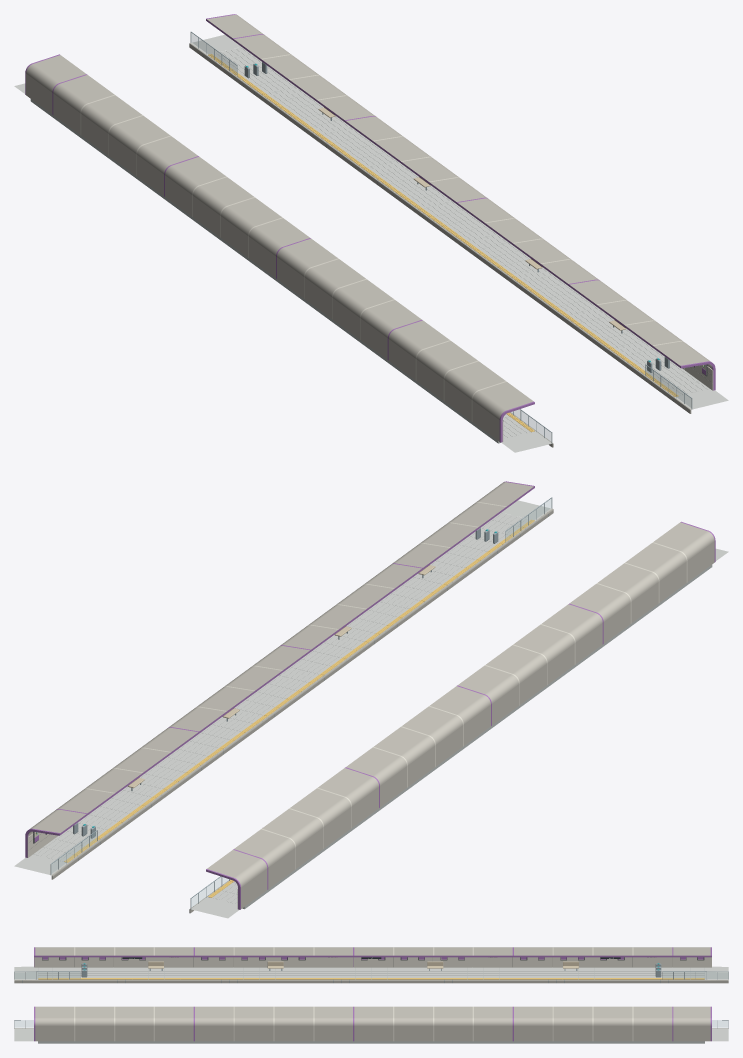
Rendered from station-A4.glb.
The picture shows the model from 3 angles, top to bottom: view 1: azimuth 30°, elevation 25°; view 2: azimuth 150°, elevation 25°; view 3: azimuth 270°, elevation 25°; orthographic projection. The views are drawn at different scales.
Parts seen in each view (by area): view 1: A4_platform_-1_roof, A4_platform_1_tile, A4_platform_1_roof, A4_platform_1_station_kerb, A4_platform_1_yellow, A4_platform_-1_concrete, A4_platform_-1_cladding, A4_platform_-1_tile, A4_platform_1_cladding, A4_platform_-1_accent; view 2: A4_platform_-1_roof, A4_platform_1_tile, A4_platform_1_roof, A4_platform_1_station_kerb, A4_platform_1_yellow, A4_platform_-1_concrete, A4_platform_-1_cladding, A4_platform_-1_tile, A4_platform_1_cladding, A4_platform_-1_accent; view 3: A4_platform_1_roof, A4_platform_-1_tile, A4_platform_-1_roof, A4_platform_-1_cladding, A4_platform_-1_station_kerb, A4_platform_1_concrete, A4_platform_-1_yellow, A4_platform_1_cladding, A4_platform_-1_accent, A4_platform_-1_sand, A4_platform_1_tile, A4_platform_-1_dark (+5 smaller).
Boxes of the visible parts, x1,y1,x2,y2 form: A4_platform_-1_roof: (26, 55, 533, 441); A4_platform_1_tile: (191, 34, 728, 409); A4_platform_1_roof: (206, 14, 712, 368); A4_platform_1_station_kerb: (189, 43, 691, 413); A4_platform_1_yellow: (208, 54, 705, 396); A4_platform_-1_concrete: (30, 99, 500, 443); A4_platform_-1_cladding: (80, 94, 506, 441); A4_platform_-1_tile: (14, 83, 551, 452); A4_platform_1_cladding: (261, 54, 713, 390); A4_platform_-1_accent: (25, 54, 534, 442); A4_platform_-1_roof: (207, 522, 714, 908); A4_platform_1_tile: (14, 500, 551, 875); A4_platform_1_roof: (28, 482, 533, 836); A4_platform_1_station_kerb: (51, 508, 553, 879); A4_platform_1_yellow: (35, 519, 534, 862); A4_platform_-1_concrete: (242, 565, 712, 909); A4_platform_-1_cladding: (237, 542, 687, 908); A4_platform_-1_tile: (191, 548, 728, 918); A4_platform_1_cladding: (27, 502, 506, 857); A4_platform_-1_accent: (206, 521, 715, 909); A4_platform_1_roof: (35, 1006, 710, 1041); A4_platform_-1_tile: (14, 966, 728, 979); A4_platform_-1_roof: (35, 947, 710, 966); A4_platform_-1_cladding: (34, 947, 711, 967); A4_platform_-1_station_kerb: (14, 979, 728, 983); A4_platform_1_concrete: (38, 1041, 704, 1043); A4_platform_-1_yellow: (38, 978, 704, 979); A4_platform_1_cladding: (74, 1006, 633, 1041); A4_platform_-1_accent: (34, 947, 711, 966); A4_platform_-1_sand: (148, 961, 578, 968); A4_platform_1_tile: (14, 1028, 728, 1041); A4_platform_-1_dark: (42, 957, 704, 960).
Size of the model in its own units: 22.2 by 3.57 by 89.65.
